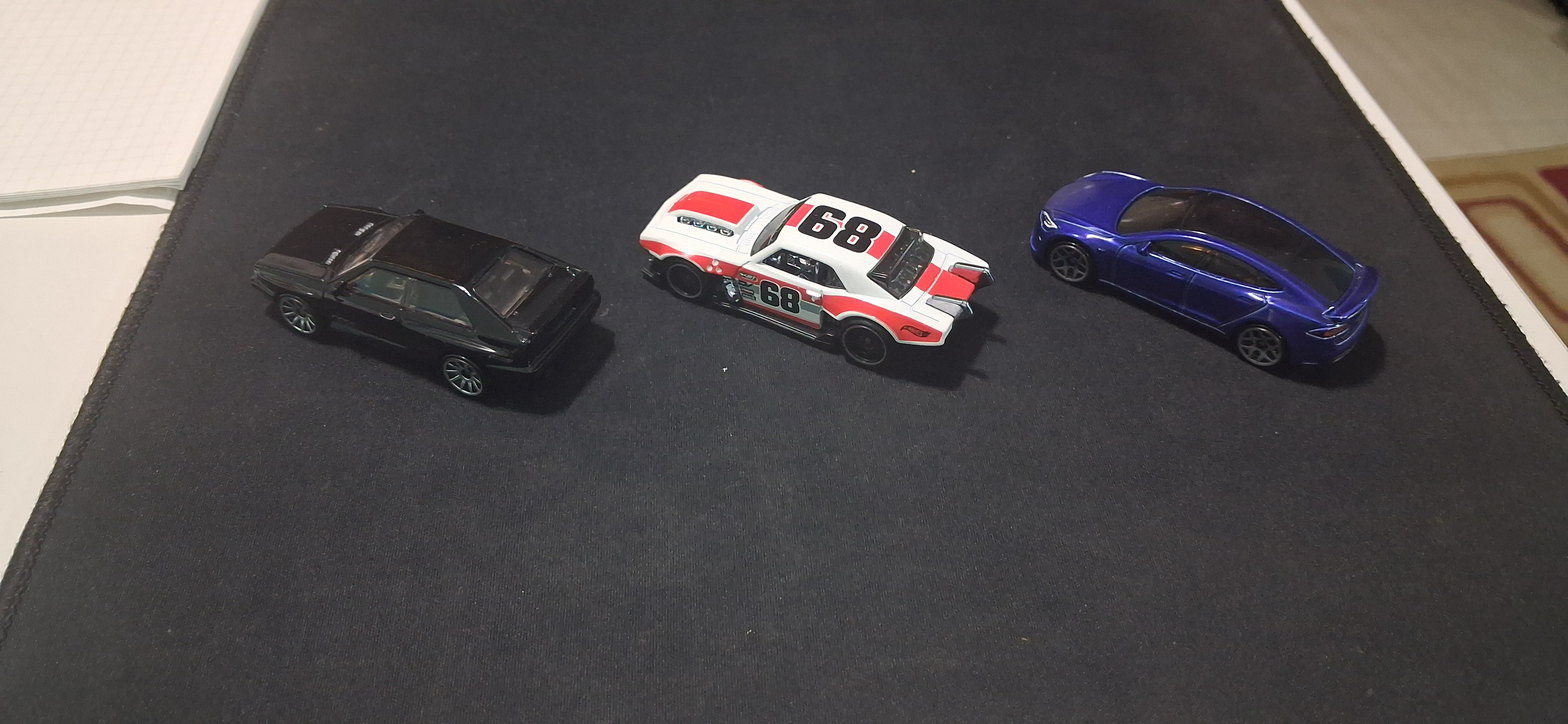Audi_Quattro: (230, 159, 611, 448)
Camaro: (622, 129, 1017, 406)
Tesla_Model_S_Plaid: (1016, 85, 1408, 450)
